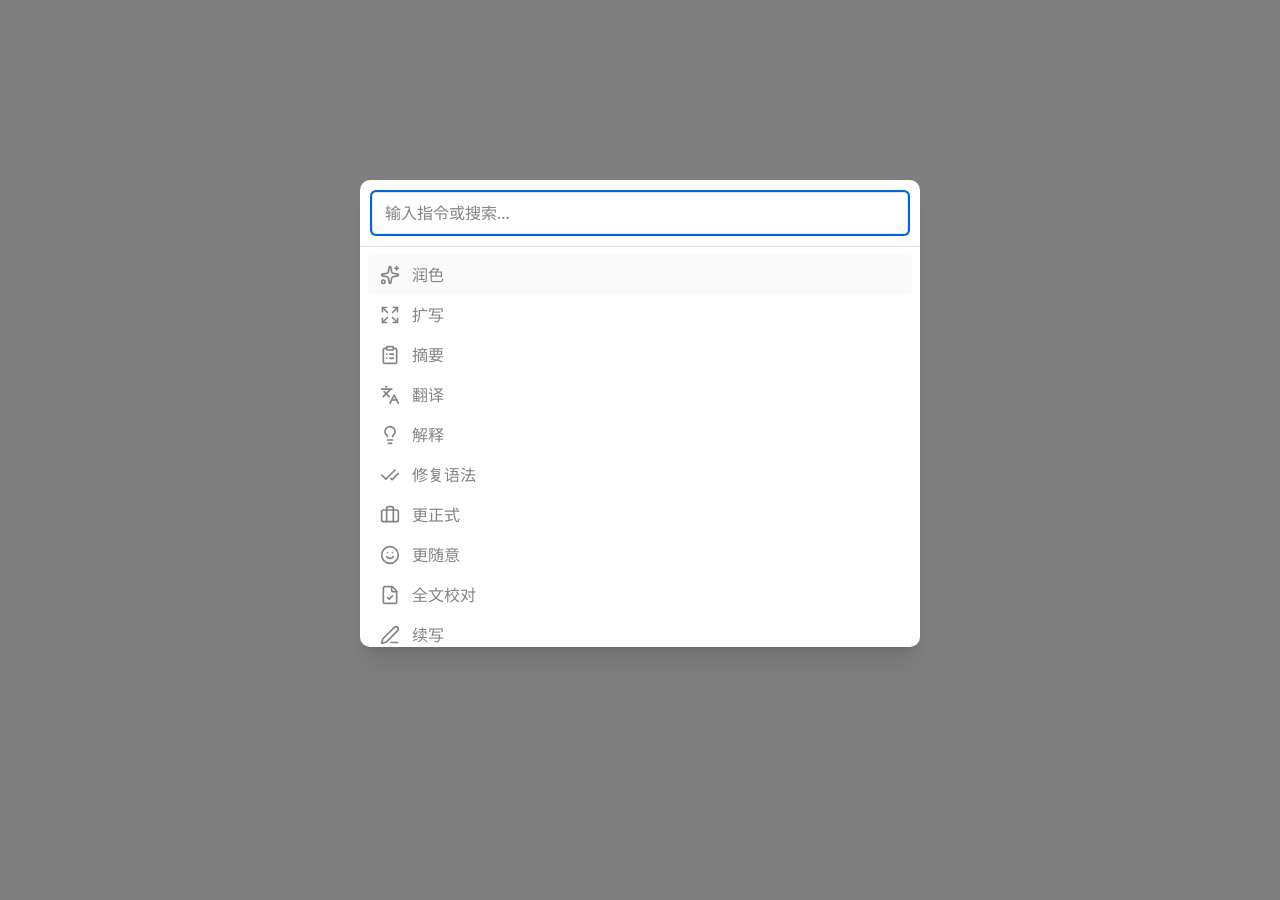
Test case: CommandPalette › 键盘交互 › 输入搜索文本过滤动作列表
The width and height of the screenshot is (1280, 900).
Step 1. Type "润色" into the field with placeholder "输入指令或搜索…" → {"x": 640, "y": 213}, box [372,192,908,234]
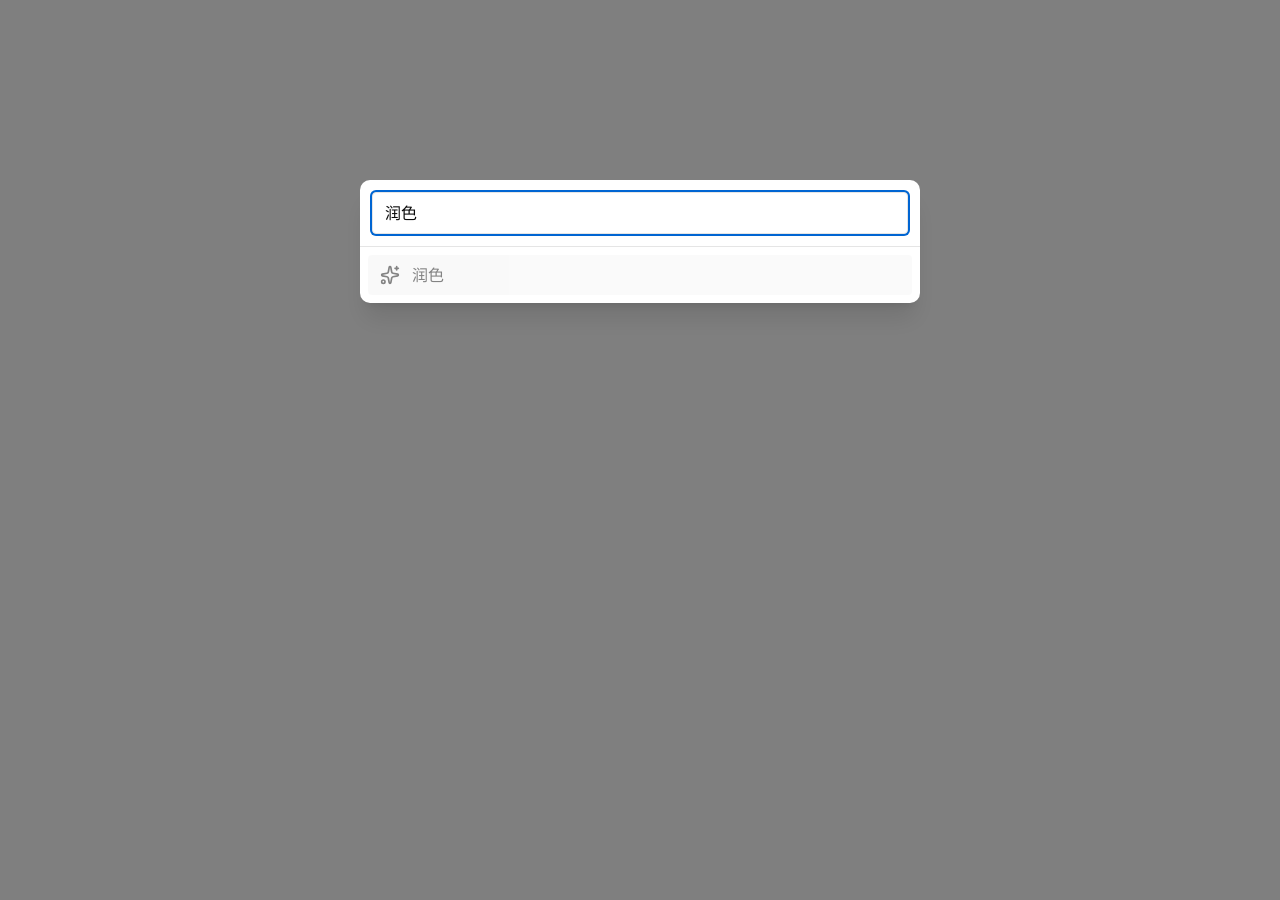
Expected: the text "润色" is shown, [412,264,444,286]
Result: the button "扩写" is gone
